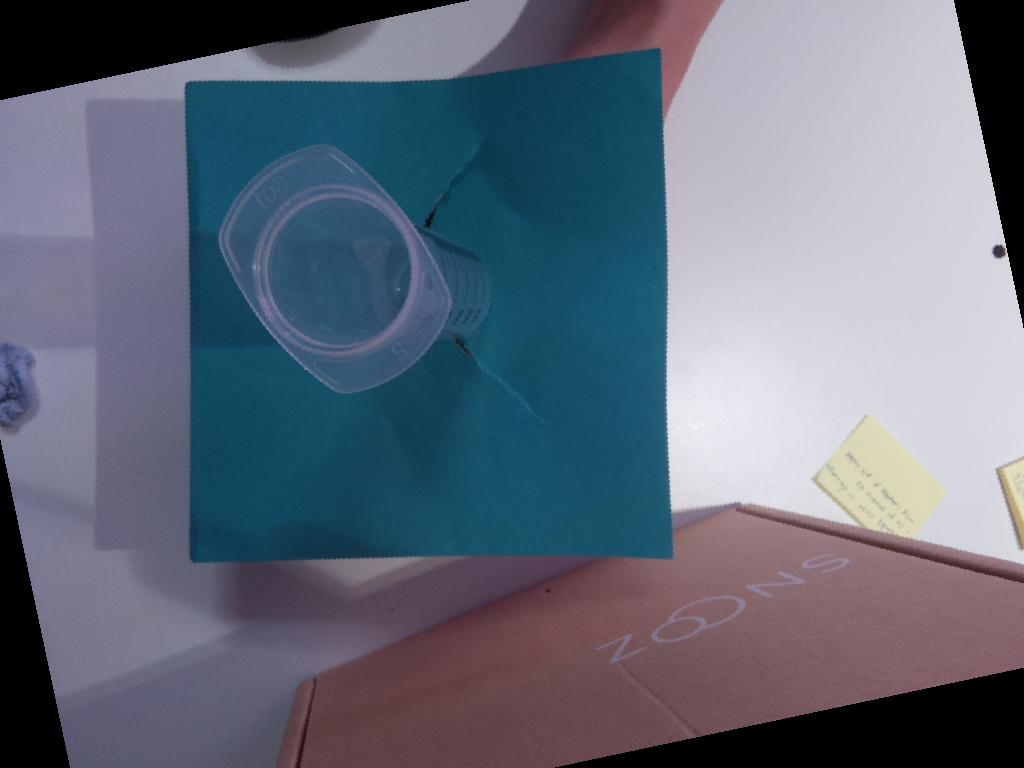clean: (219, 141, 453, 397)
